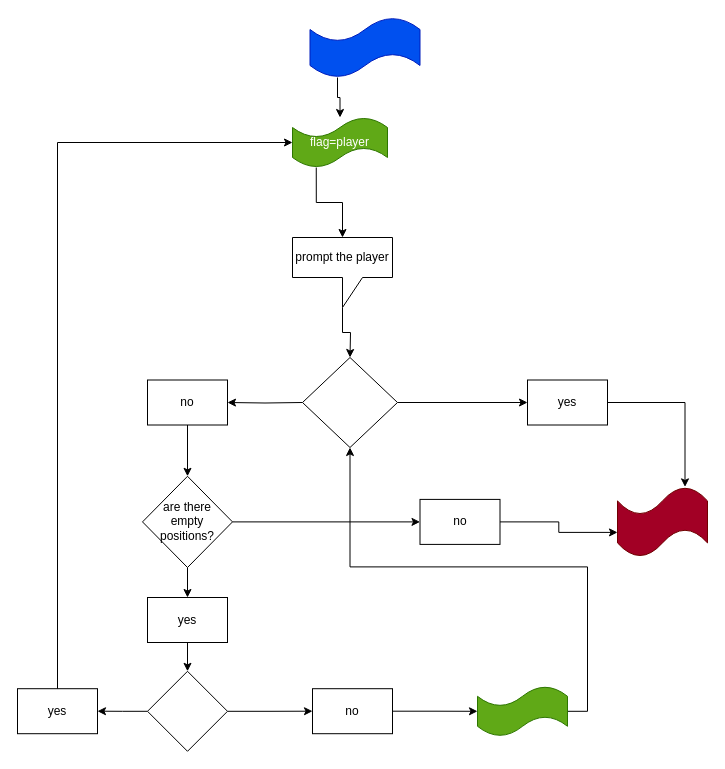
Image size: 725x769. Some labels were removed from this diagram. The shapes that lost their labels are listed below. From the top down, each one's centre as x and y in pixels, then its label:
the point at 364,47: game on
the point at 350,402: is the winning position?
the point at 662,521: gameOn = false
the point at 187,710: is flag= computer?
the point at 522,710: flag=computer
